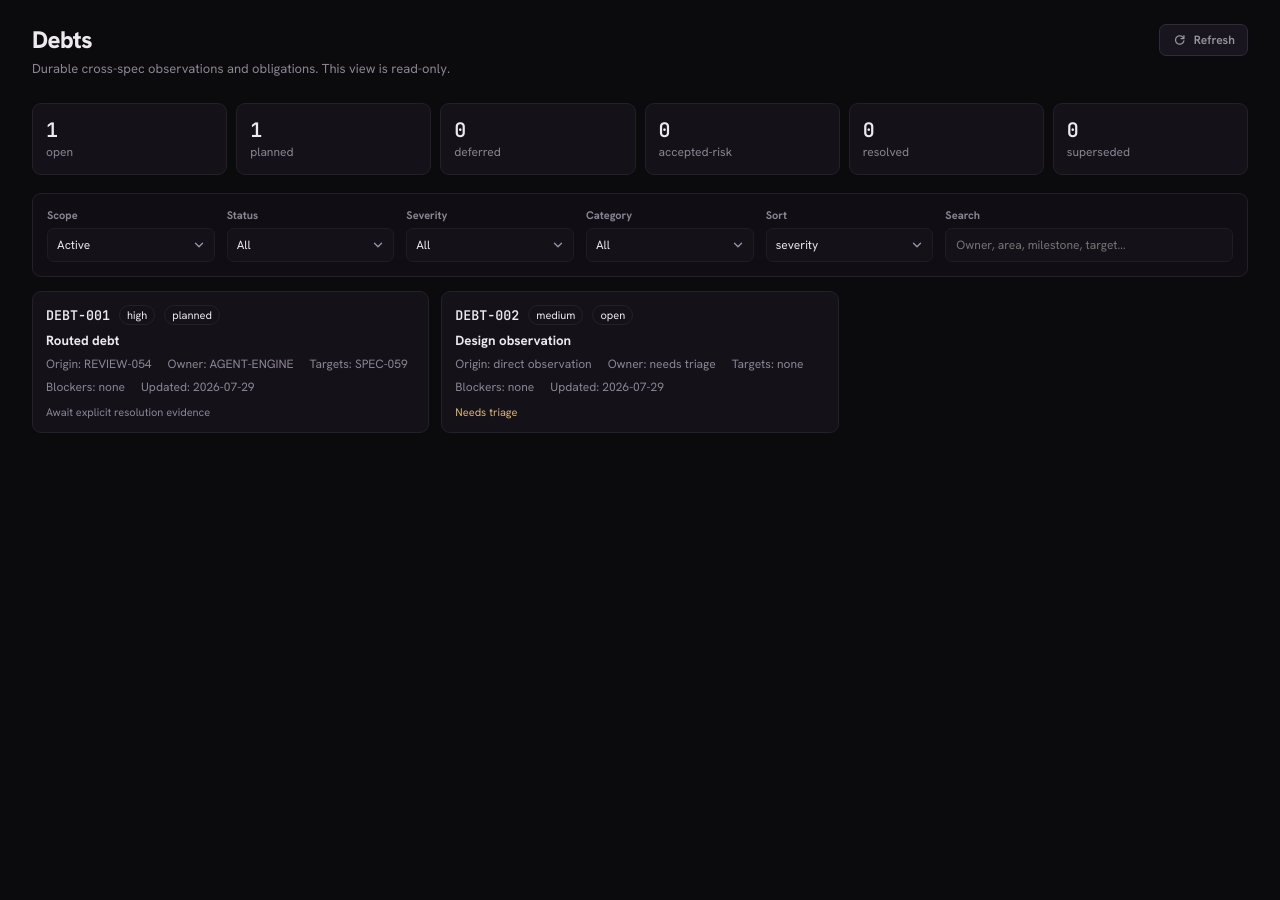
DebtsView › closes from the compact control, Escape, and the backdrop
Click the button with aria-label "Open DEBT-001".
click(231, 362)  # box top-left (32, 291), bottom-right (429, 433)
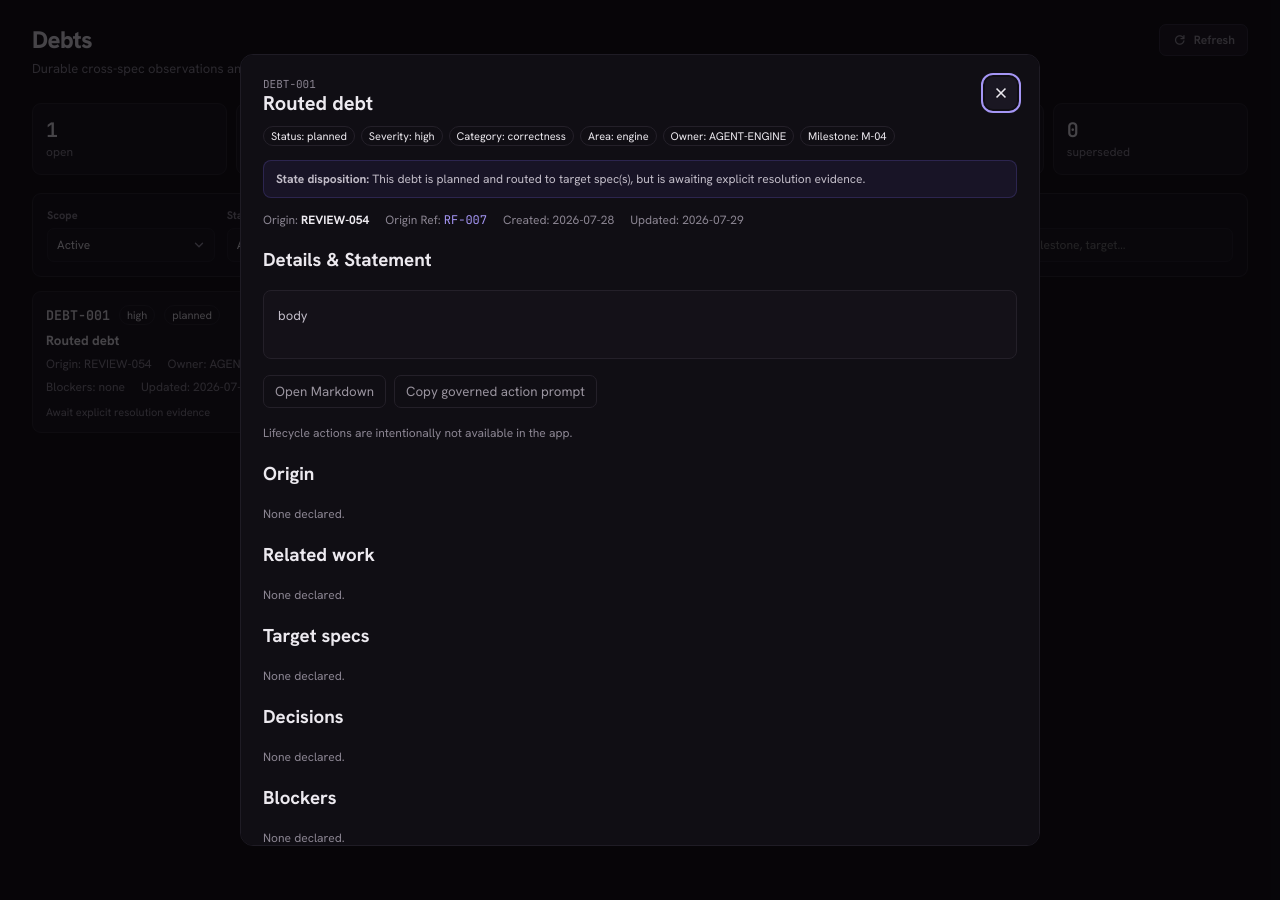
expect the dialog is shown: met, box top-left (240, 54), bottom-right (1040, 846)
Click the button named "Close debt detail".
click(1001, 93)  # box top-left (985, 77), bottom-right (1017, 109)
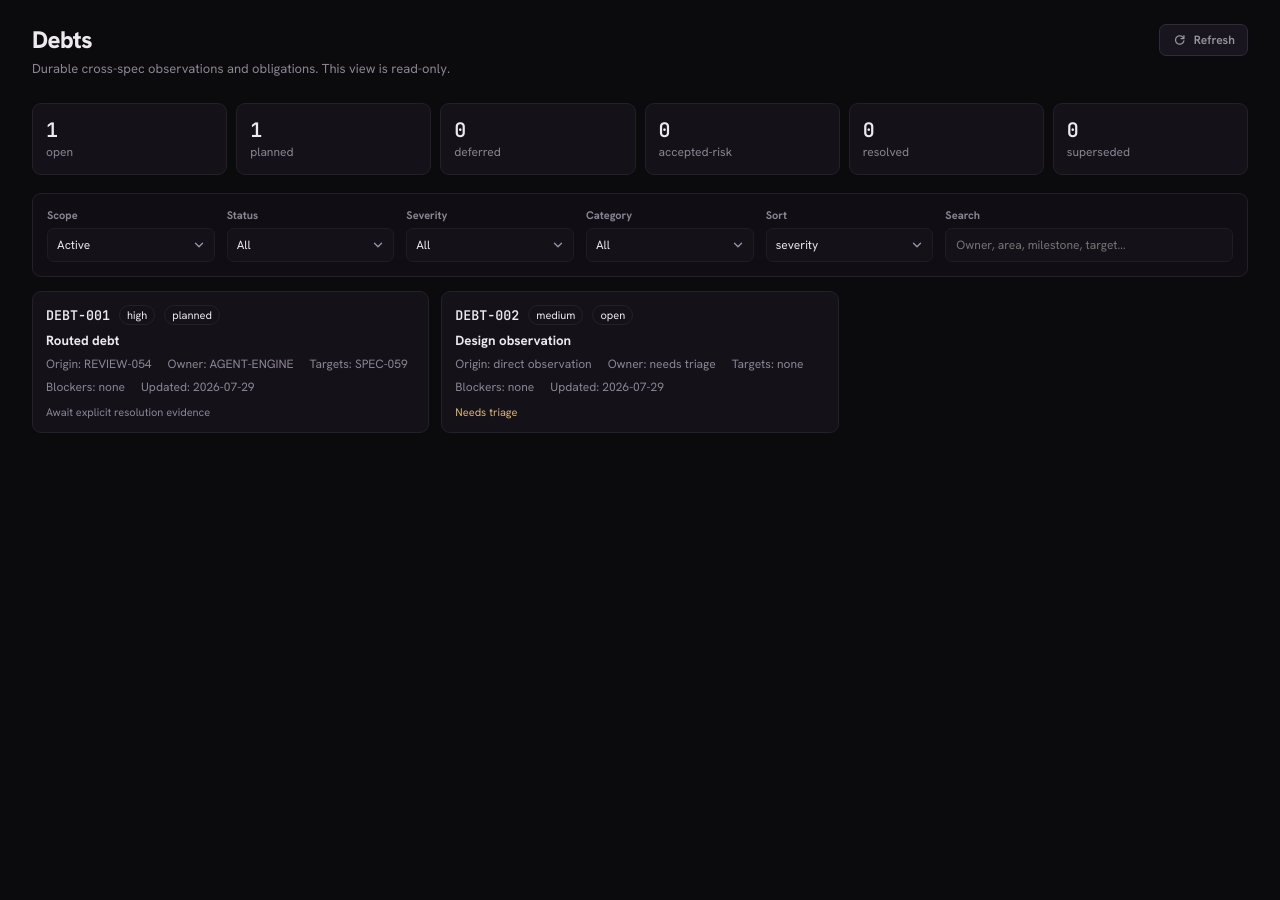
expect the dialog is gone: met
Click the button with aria-label "Open DEBT-001".
click(231, 362)  # box top-left (32, 291), bottom-right (429, 433)
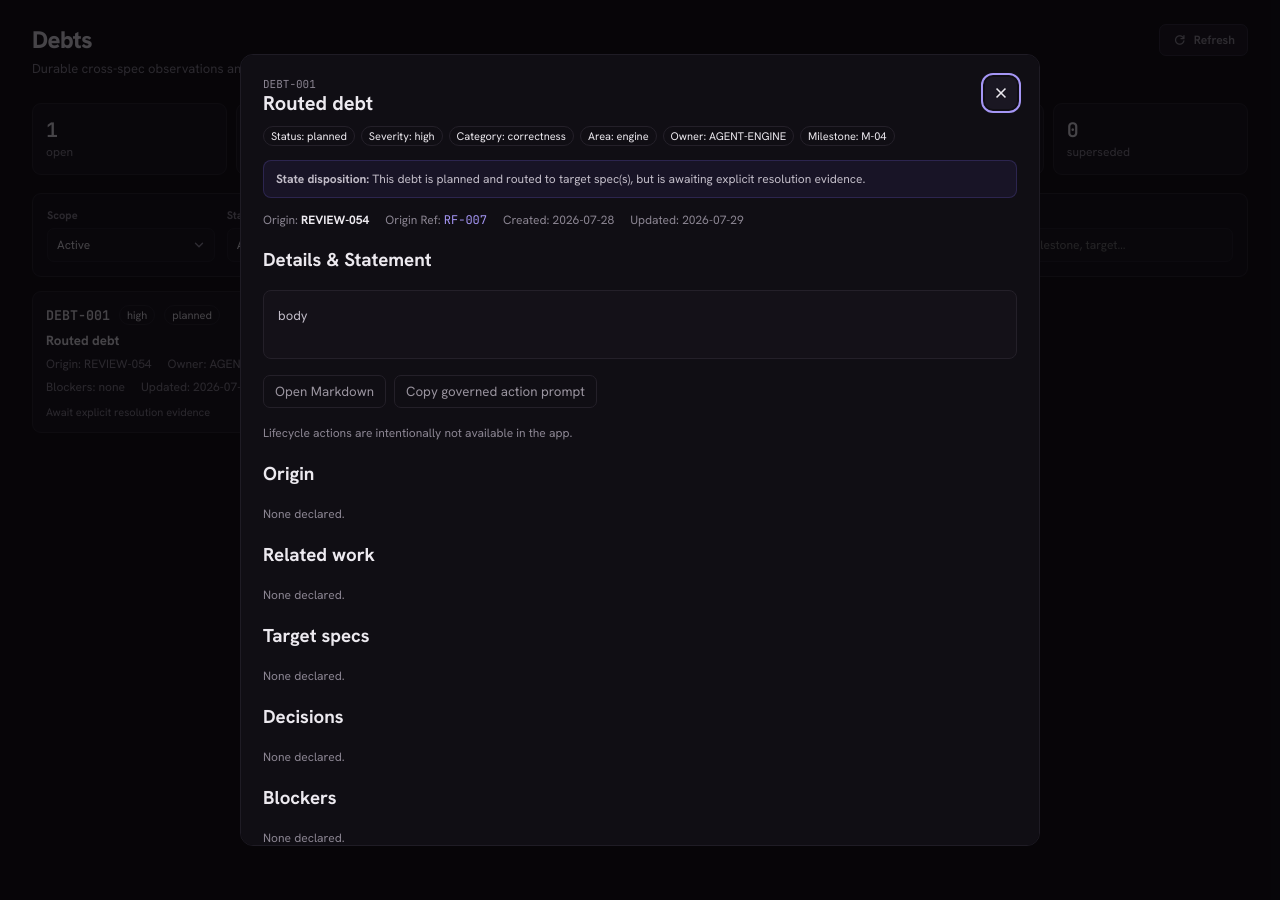
expect the dialog is shown: met, box top-left (240, 54), bottom-right (1040, 846)
Press Escape
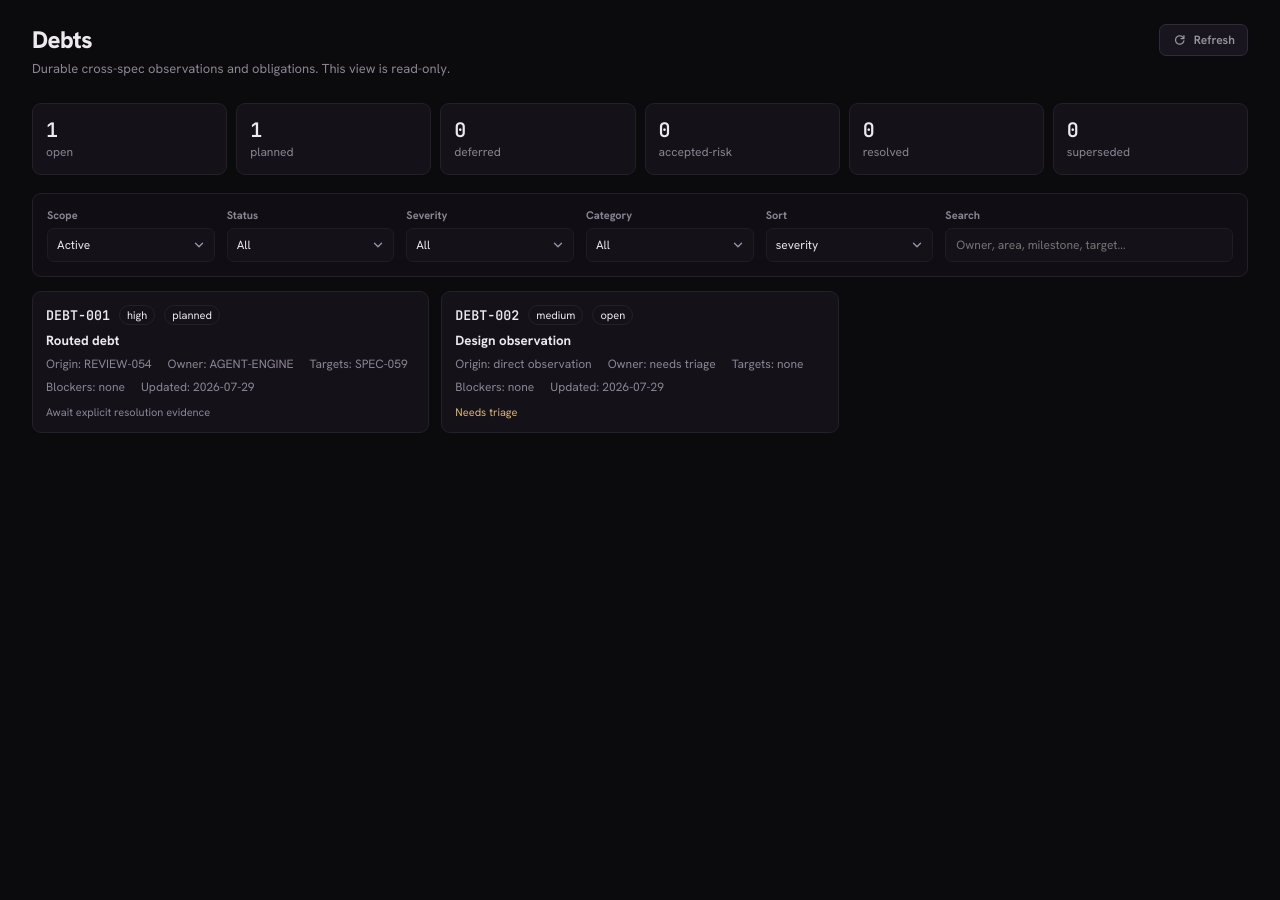
expect the dialog is gone: met
Click the button with aria-label "Open DEBT-001".
click(231, 362)  # box top-left (32, 291), bottom-right (429, 433)
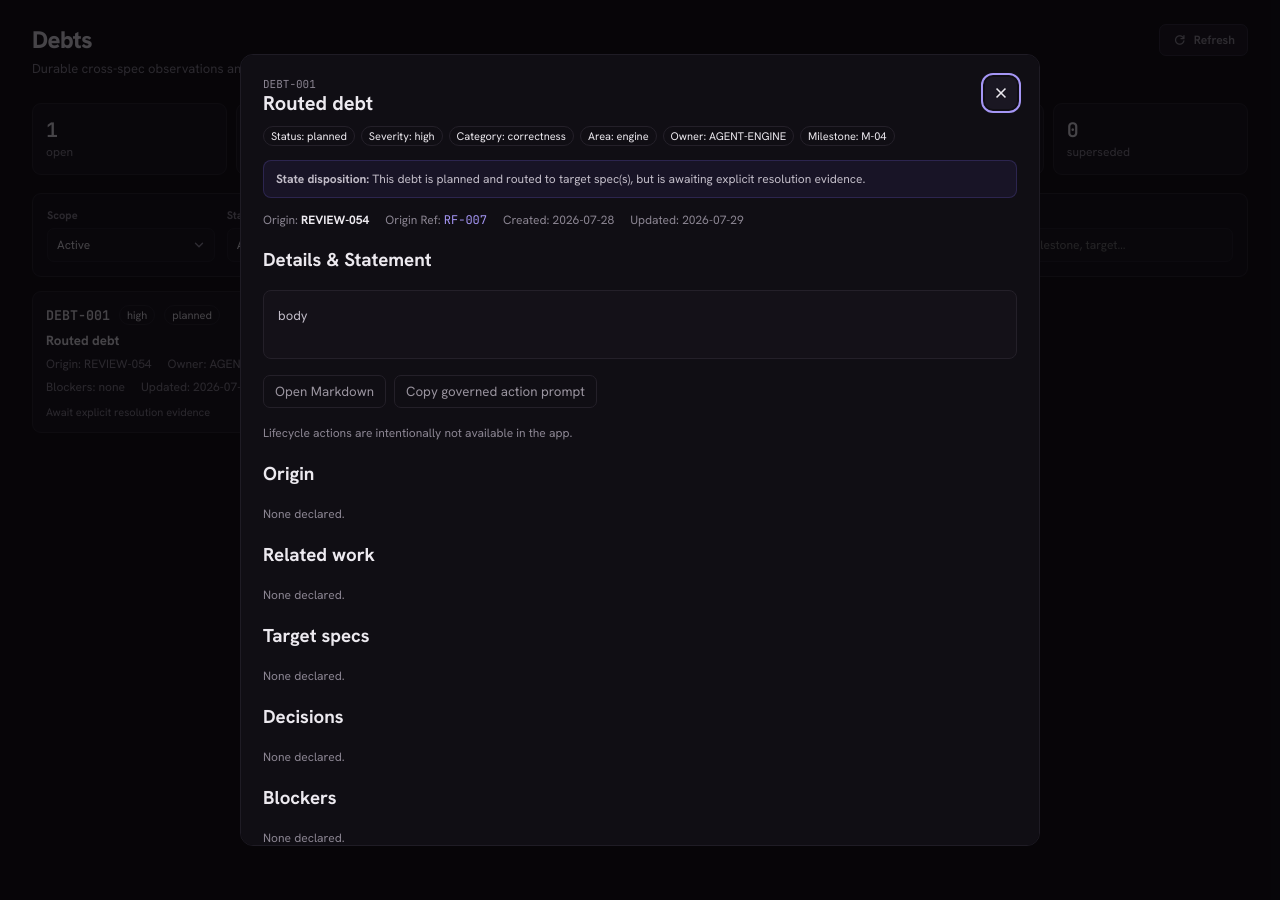
Press the mouse on the element that starts with "DEBT-001" at point(640, 450), box top-left (0, 0), bottom-right (1279, 899)
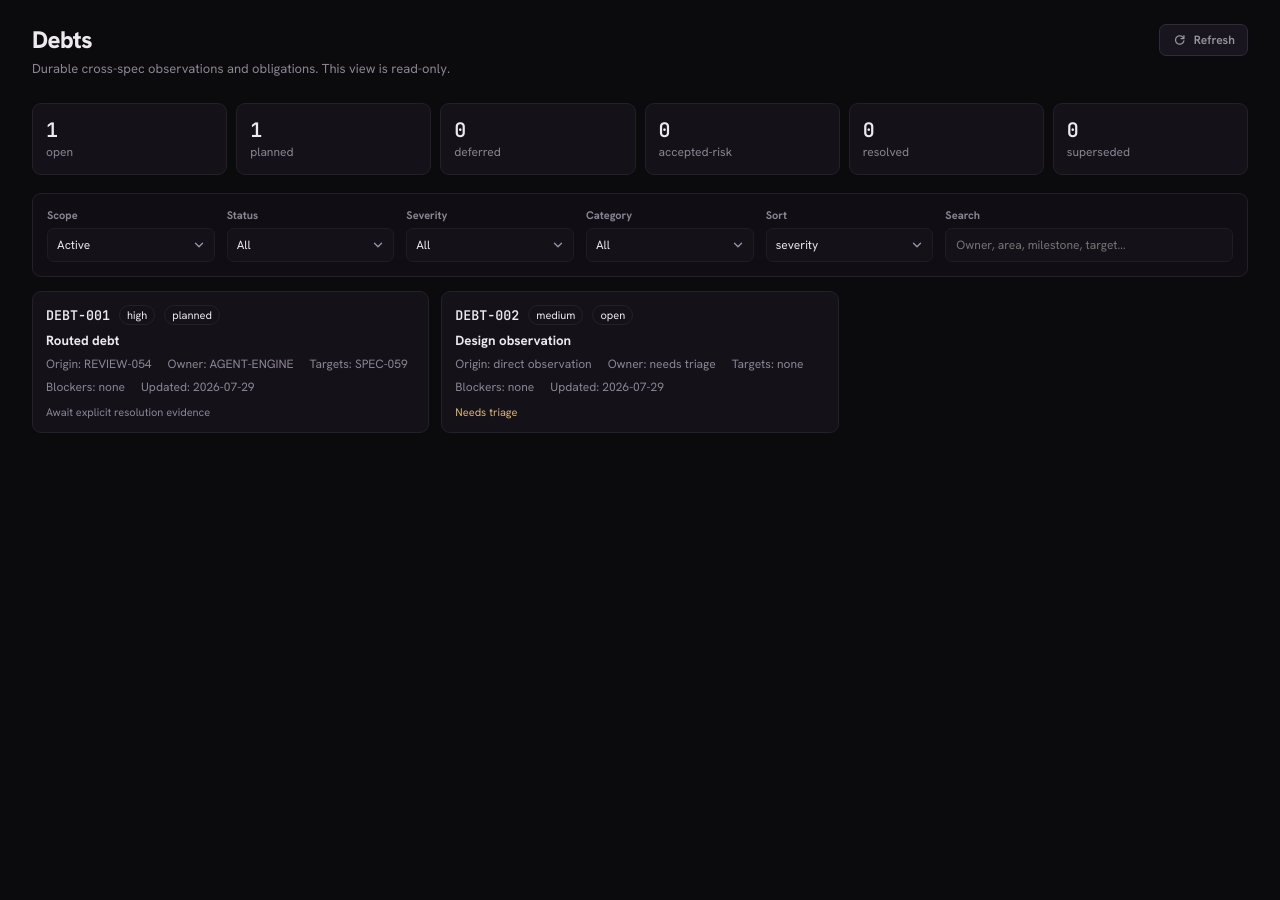
expect the dialog is gone: met
